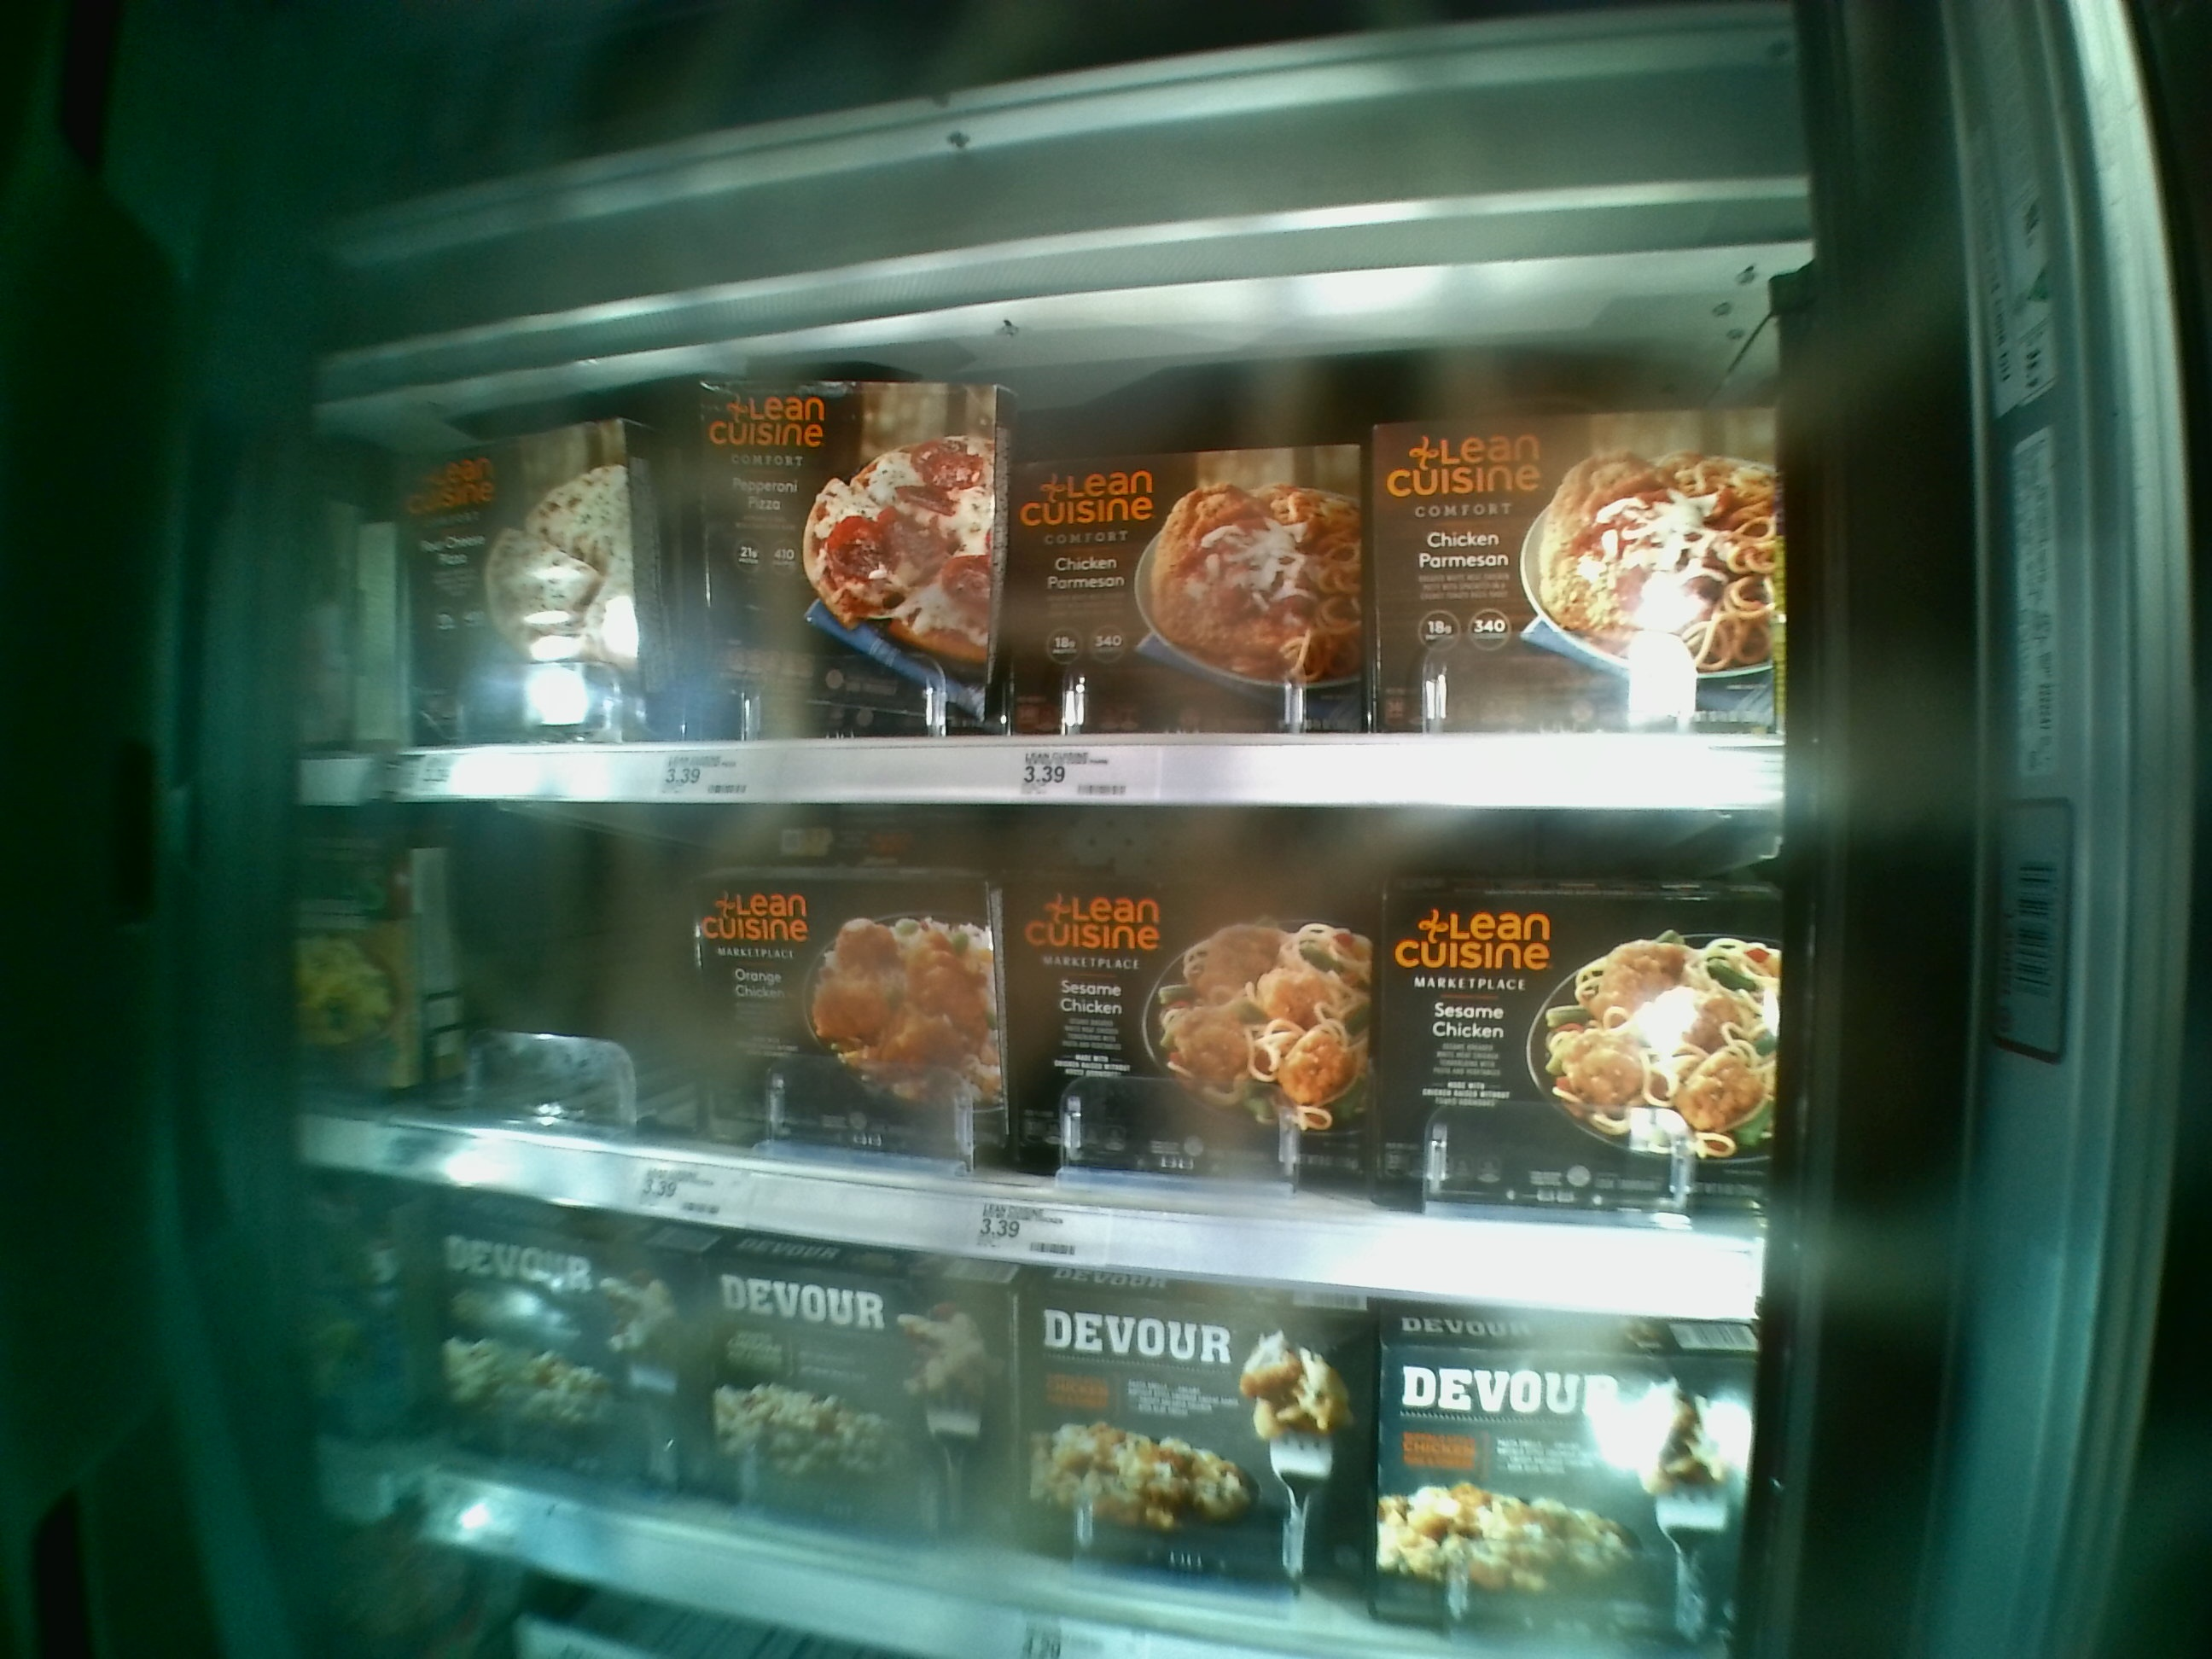Shelf: (291, 277, 1785, 803), (286, 796, 1759, 1316)
